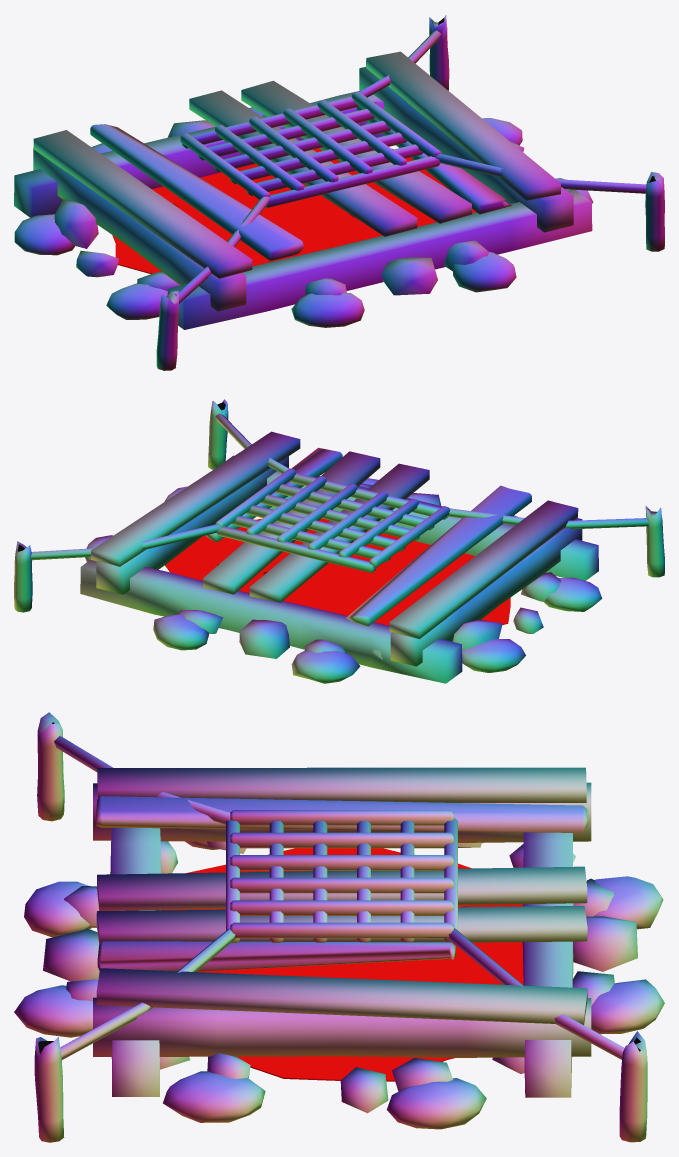
The model's file is SM_Prop_March_PitMouthSealed.fbx.
3 views of the same model, one above another, from view 1: azimuth 30°, elevation 25°; view 2: azimuth 150°, elevation 25°; view 3: azimuth 270°, elevation 25° (orthographic). The views are drawn at different scales.
Visible parts, largest first — view 1: SM_Prop_March_PitMouthSealed; view 2: SM_Prop_March_PitMouthSealed; view 3: SM_Prop_March_PitMouthSealed.
Part boxes in pixels (x1,y1,x2,y2): SM_Prop_March_PitMouthSealed: [14, 15, 664, 370]; SM_Prop_March_PitMouthSealed: [14, 399, 664, 683]; SM_Prop_March_PitMouthSealed: [14, 712, 664, 1142].
Size of the model in its own units: 3.26 by 0.5191 by 2.68.
